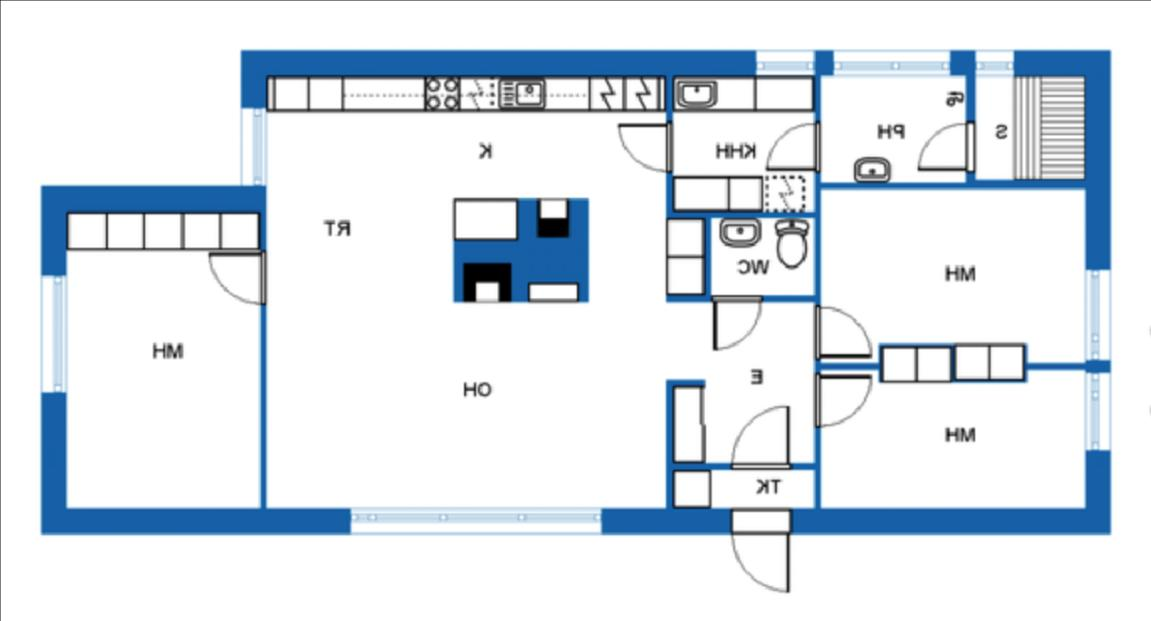bathroom: (708, 216, 814, 300)
door: (728, 506, 796, 594), (728, 402, 794, 473), (810, 302, 877, 362), (206, 248, 270, 308), (810, 370, 876, 428), (615, 117, 678, 174), (912, 121, 979, 174), (710, 291, 766, 353), (761, 121, 824, 175)
perimeter: (41, 49, 1110, 533)
window: (342, 503, 616, 538), (36, 266, 70, 402), (824, 46, 960, 75), (1079, 260, 1115, 365), (234, 98, 270, 188), (1080, 364, 1115, 456), (746, 47, 823, 76), (966, 46, 1022, 76)
